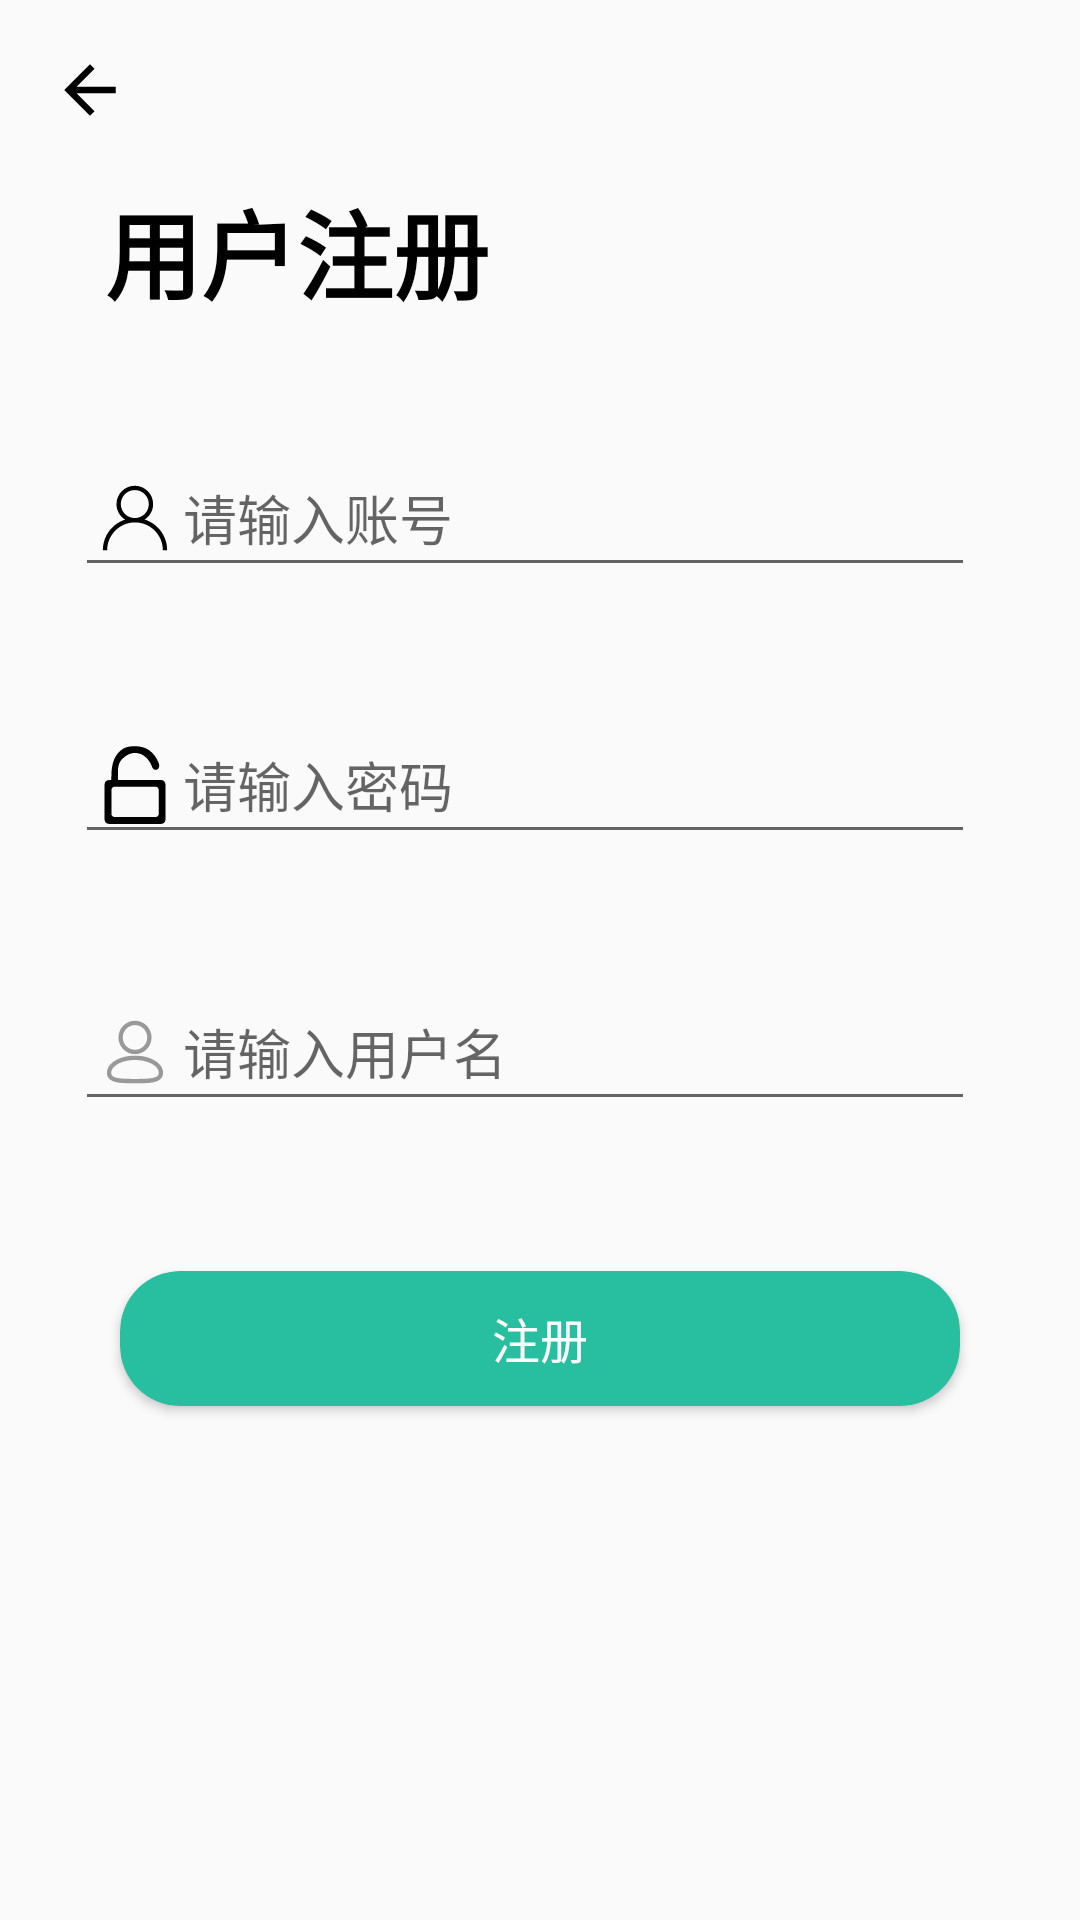

Where to tap for icons on this 1080×1920 app screen, as (x=x, y=y):
back: (x=90, y=90)
